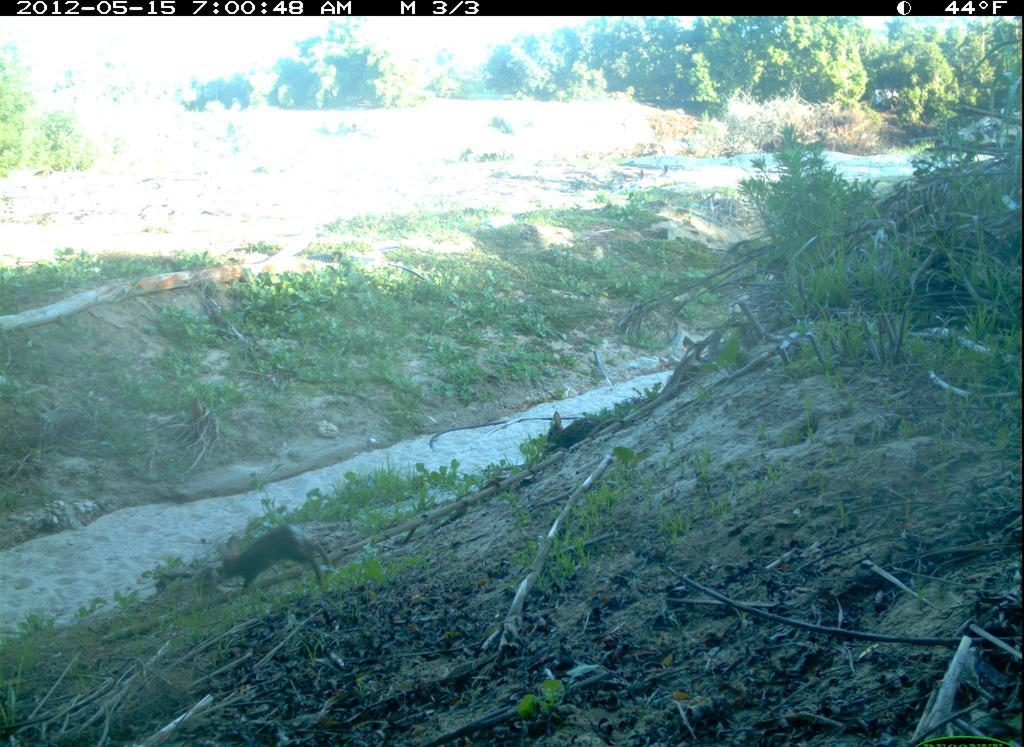rabbit: (207, 521, 338, 607), (545, 408, 606, 454)
